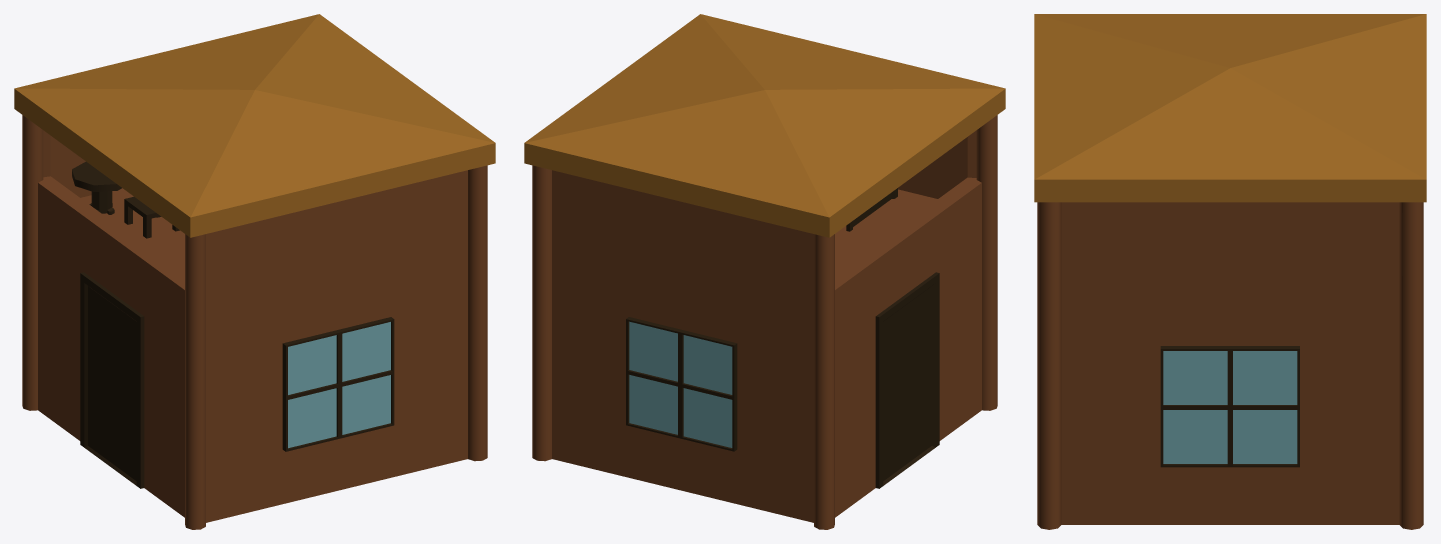
The model's file is Lodge.FBX.
The picture shows the model from 3 angles, left to right: view 1: azimuth 30°, elevation 25°; view 2: azimuth 150°, elevation 25°; view 3: azimuth 270°, elevation 25°; orthographic projection. The views are drawn at different scales.
Parts seen in each view (by area): view 1: Lodge; view 2: Lodge; view 3: Lodge.
Boxes of the visible parts, box(x1,y1,x2,y2) form: Lodge: box(14, 14, 495, 529); Lodge: box(524, 14, 1005, 529); Lodge: box(1034, 14, 1426, 529).
Bounding box in the file's own units: 28.14 × 30.09 × 28.14.
